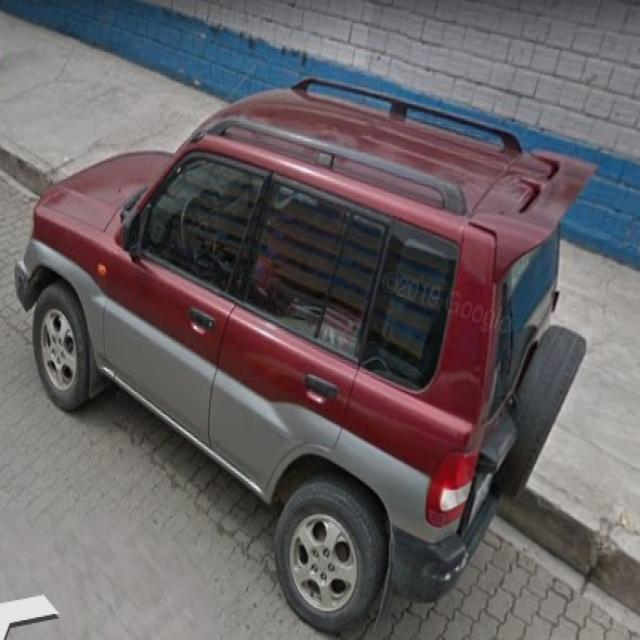cars: (25, 87, 588, 607)
